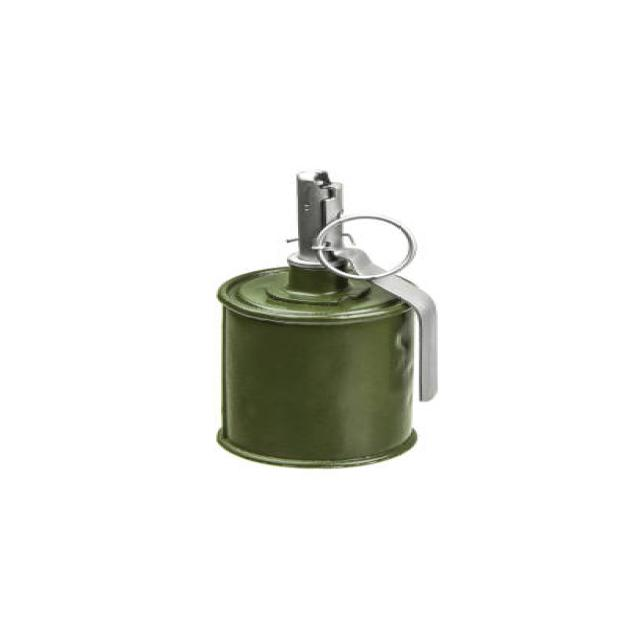grenade: (208, 163, 450, 476)
